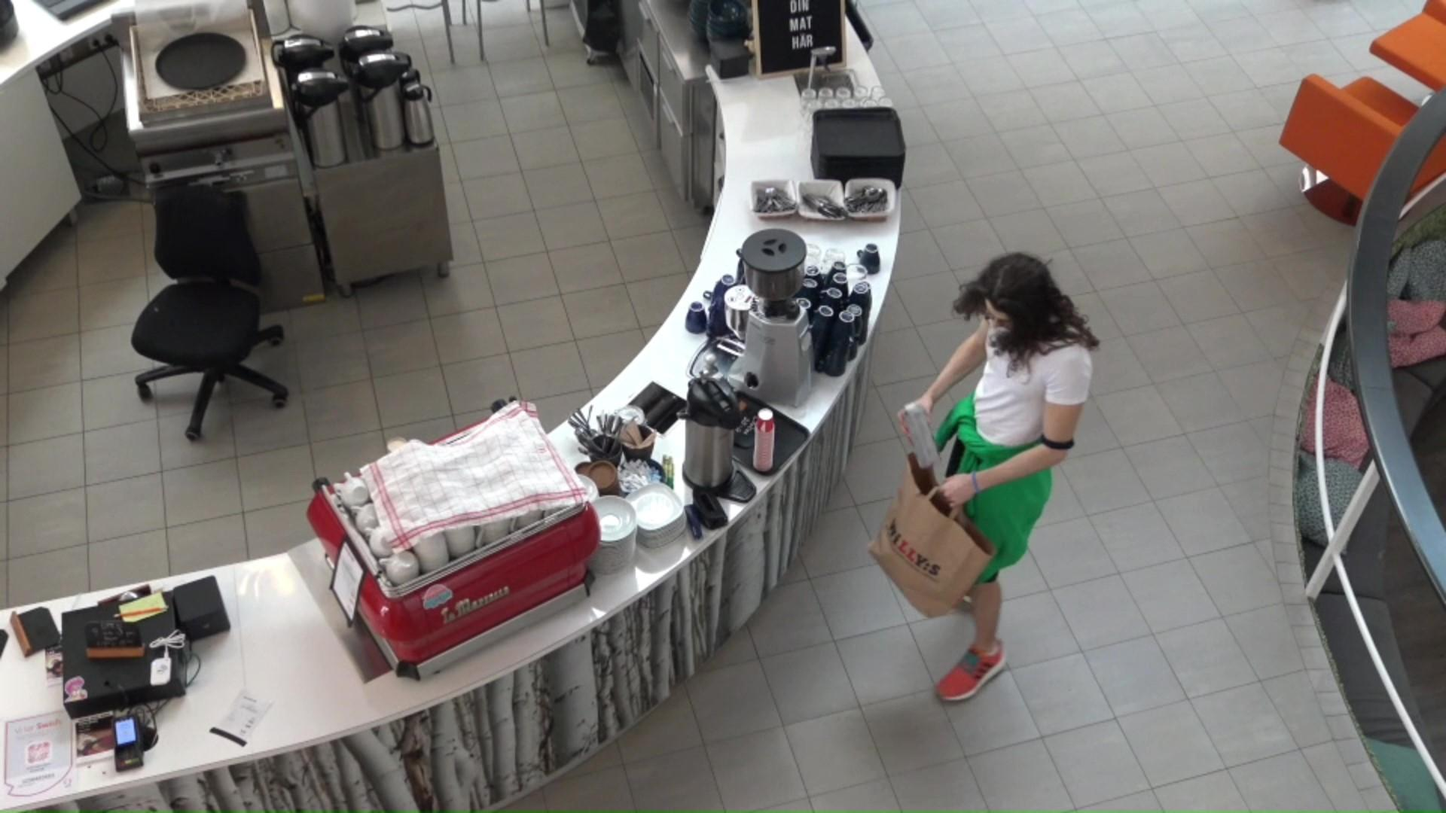shoplifting: (868, 256, 1093, 703)
